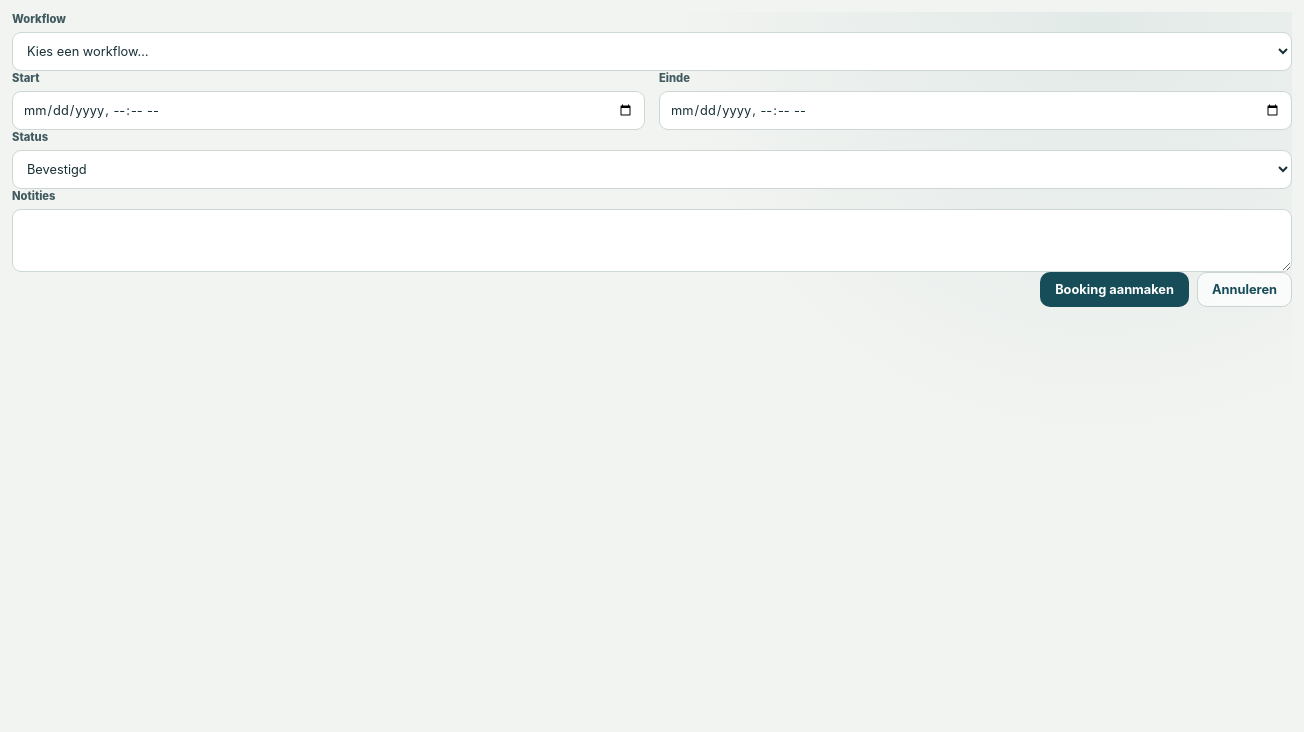
Test case: BookingForm › toont alleen de rollen van de gekozen workflow en valideert verplichte rollen
This screenshot has width=1304, height=732.
Select "hair_salon" in the dropdown labelled "Workflow" at (652, 52), box [12,32,1292,71]
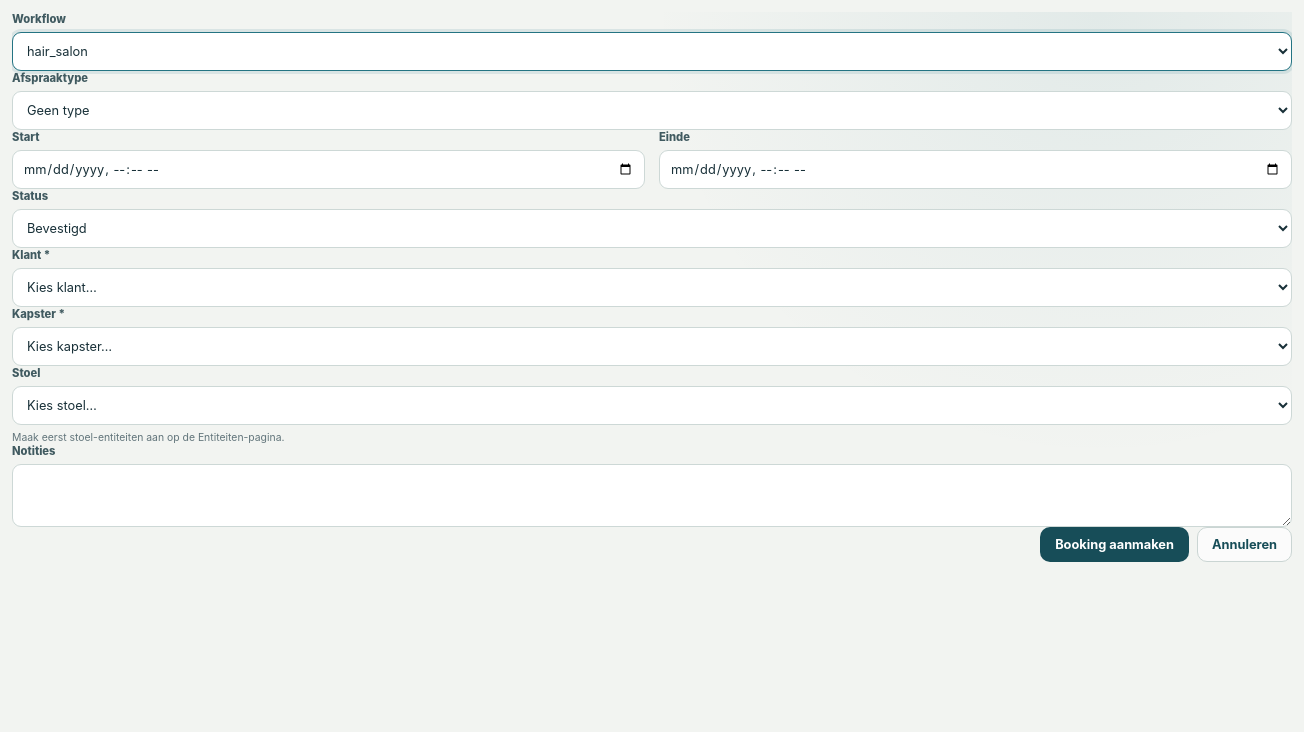
Expected: the dropdown labelled "Klant *" is shown, [12,268,1292,307]
Expected: the dropdown labelled "Kapster *" is shown, [12,327,1292,366]
Expected: the dropdown labelled "Stoel" is shown, [12,386,1292,425]
Type "2026-09-01T10:00" into the field labelled "Start".
click(328, 170); type("2026-09-01T10:00")  # box [12,150,645,189]
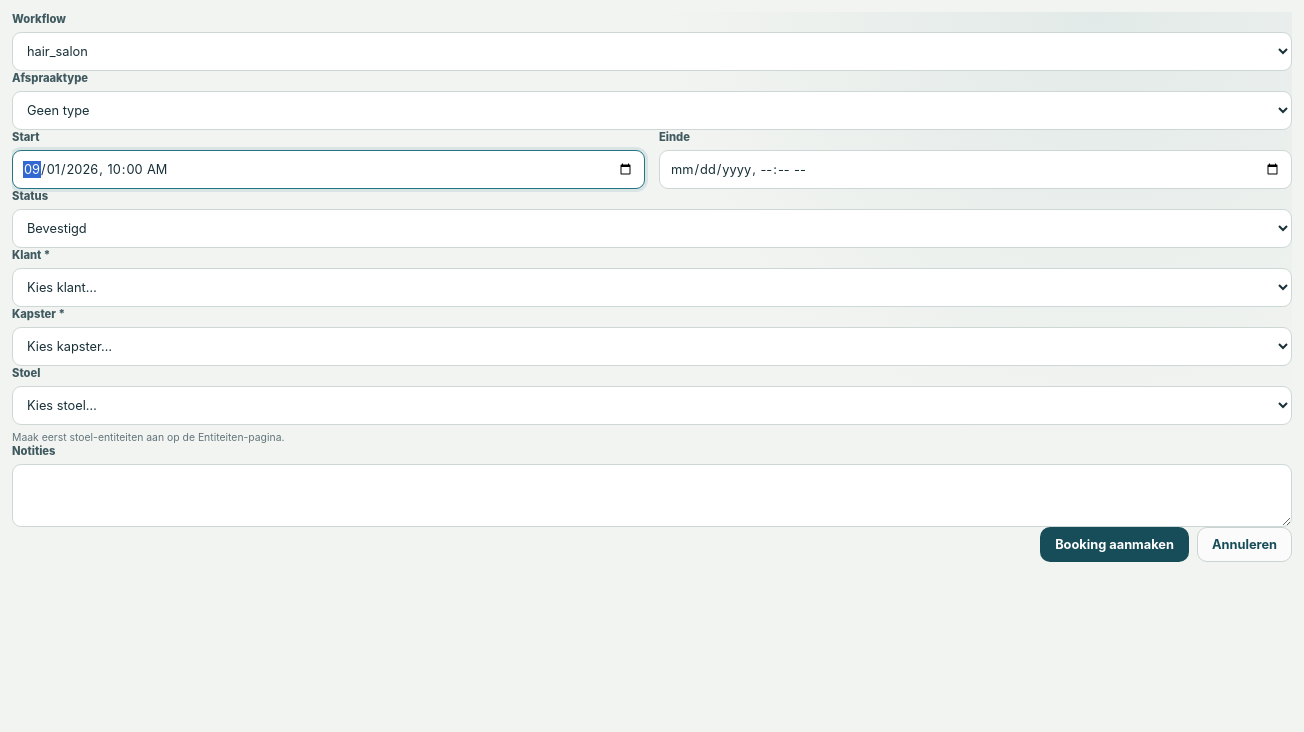
Type "2026-09-01T11:00" into the field labelled "Einde".
click(976, 170); type("2026-09-01T11:00")  # box [659,150,1292,189]
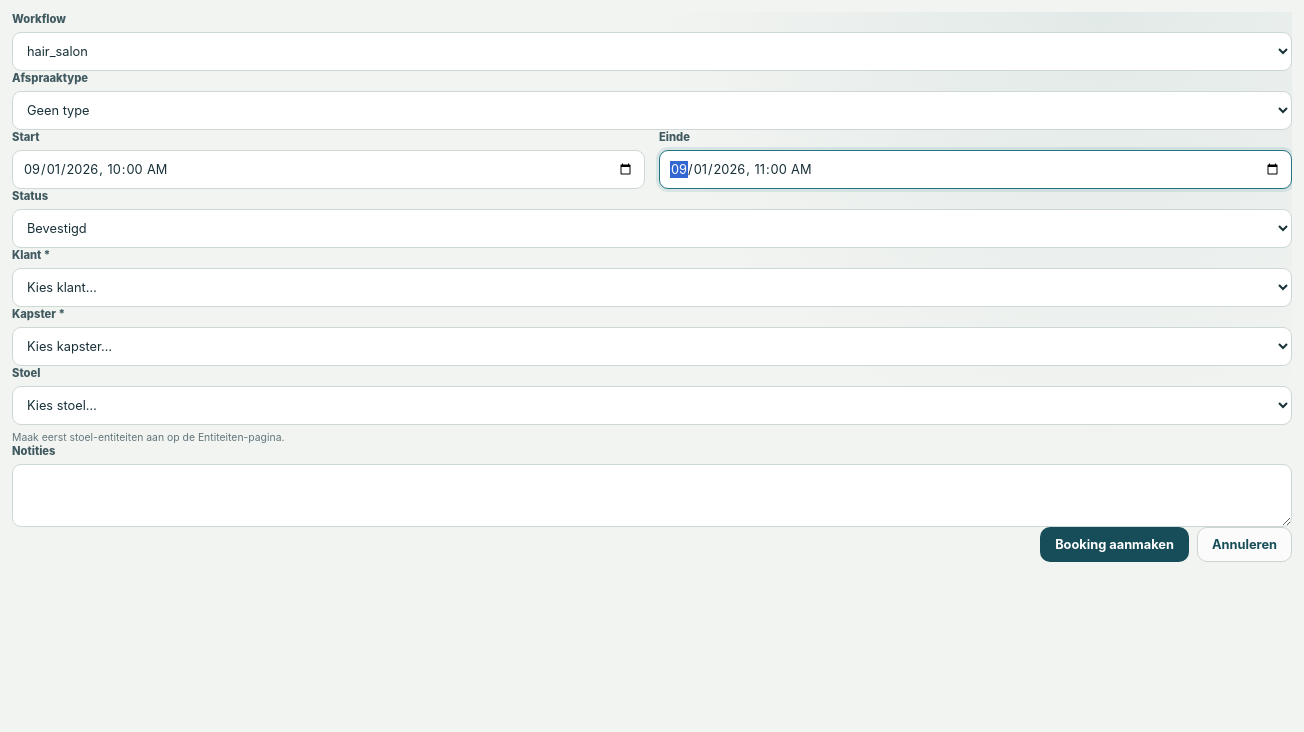
Click the button "Booking aanmaken".
click(1115, 544)  # box [1040,527,1189,562]
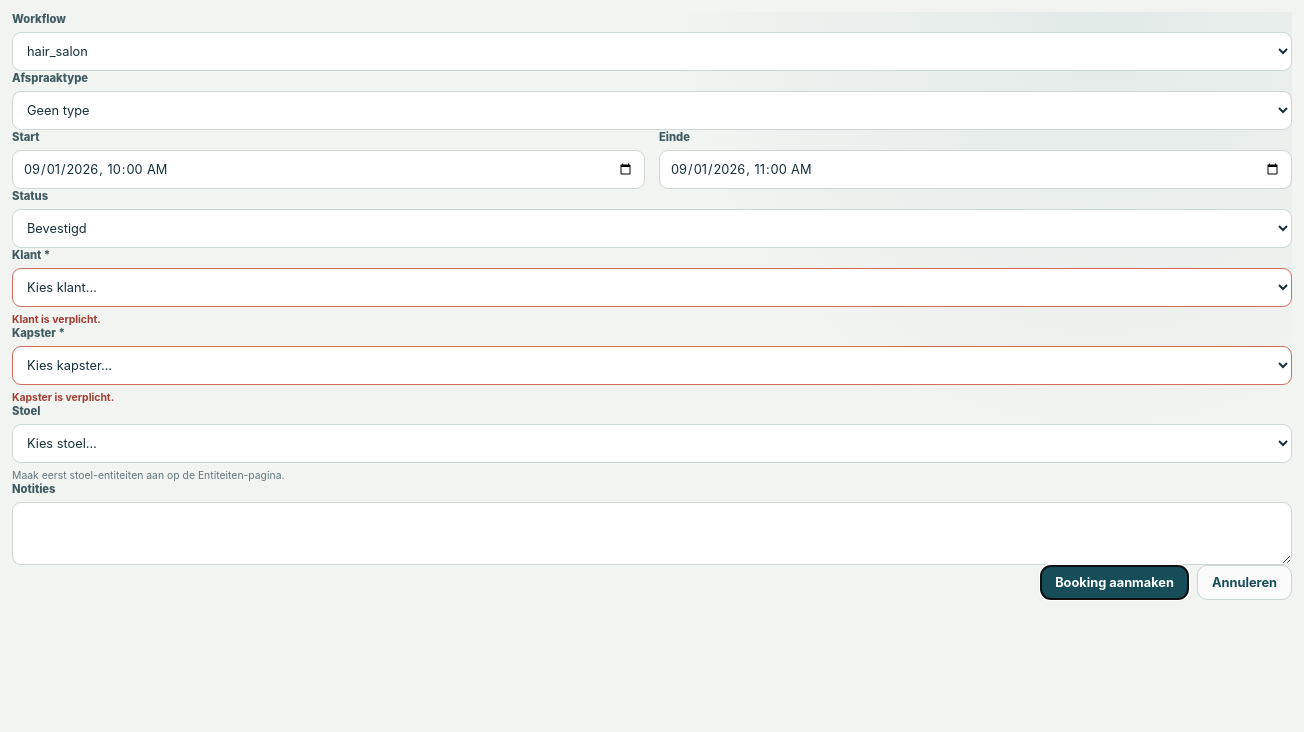
Expected: the text "Klant is verplicht." is shown, [12,313,101,326]
Expected: the text "Kapster is verplicht." is shown, [12,391,114,404]
